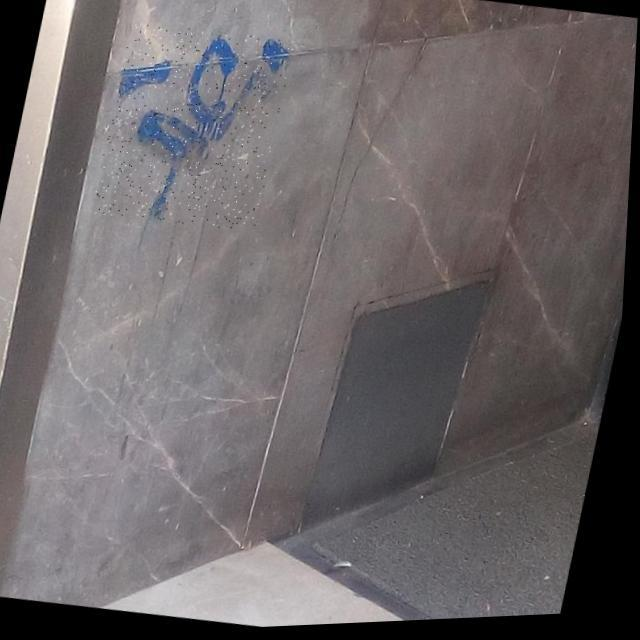-: (92, 18, 296, 240)
